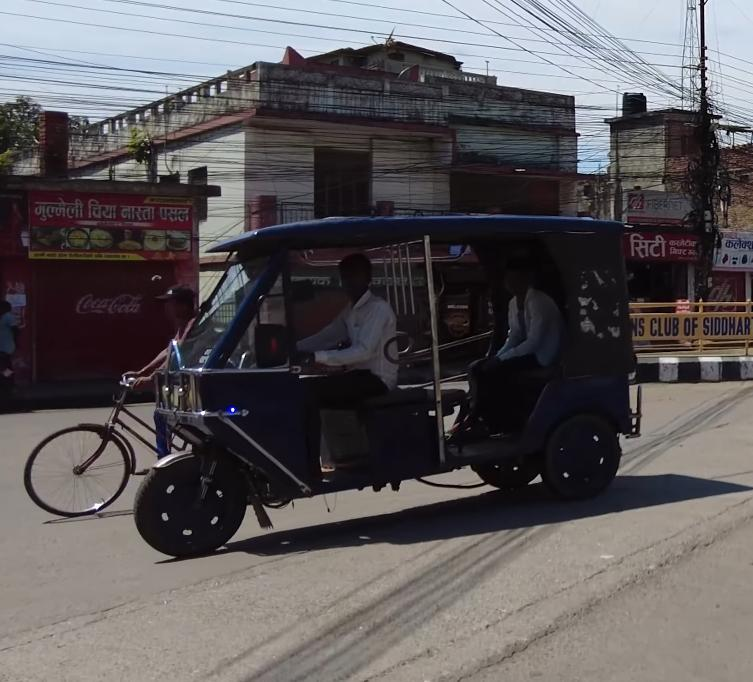e-rickshaw: (124, 201, 644, 571)
